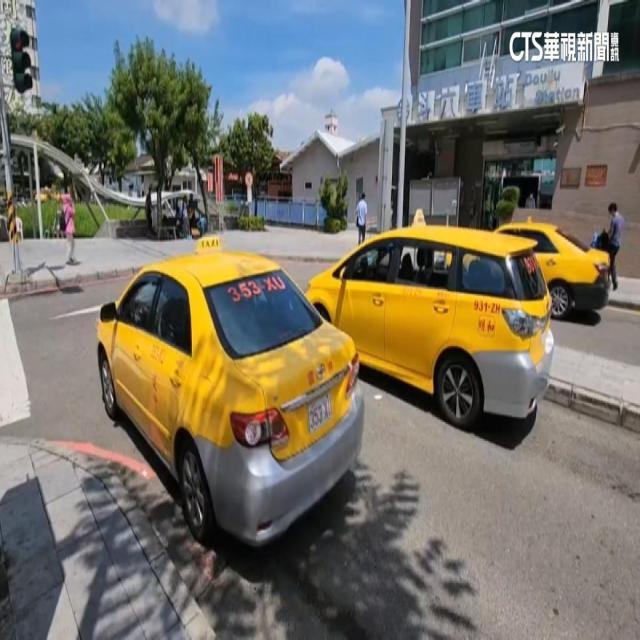taxi: (63, 208, 366, 587), (296, 180, 565, 457), (480, 193, 623, 325)
